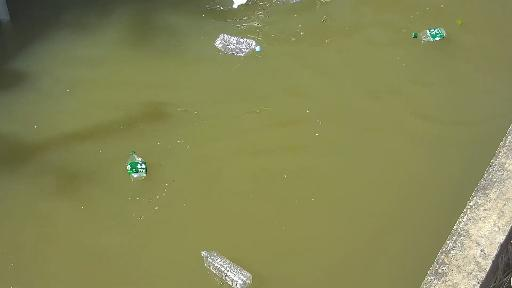leaf: (447, 14, 470, 30)
plastic: (196, 242, 273, 288), (208, 22, 277, 64), (104, 142, 154, 197), (410, 26, 456, 48), (269, 0, 309, 10), (216, 0, 259, 6)
